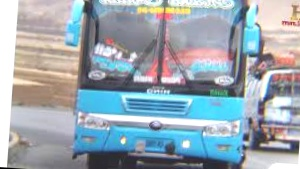bus: (58, 0, 264, 169)
